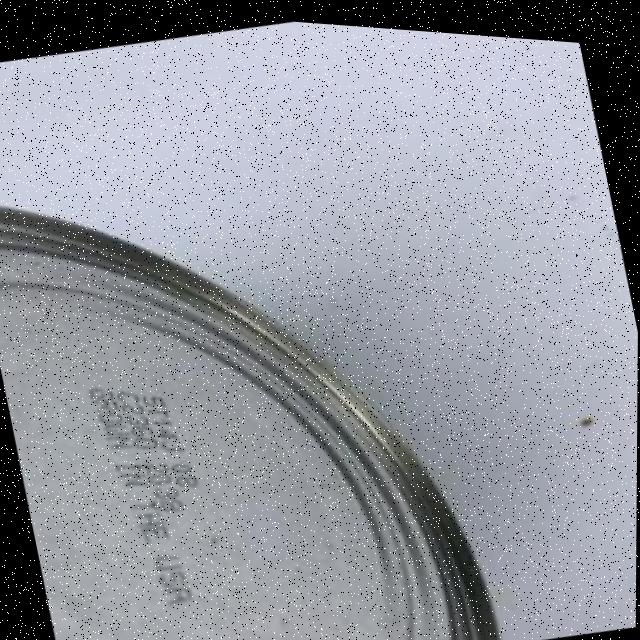metal: (0, 100, 518, 640)
